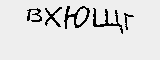В: (25, 4, 40, 25)
Г: (122, 11, 137, 34)
Х: (42, 5, 62, 27)
Щ: (91, 7, 125, 34)
Ю: (64, 3, 90, 29)
